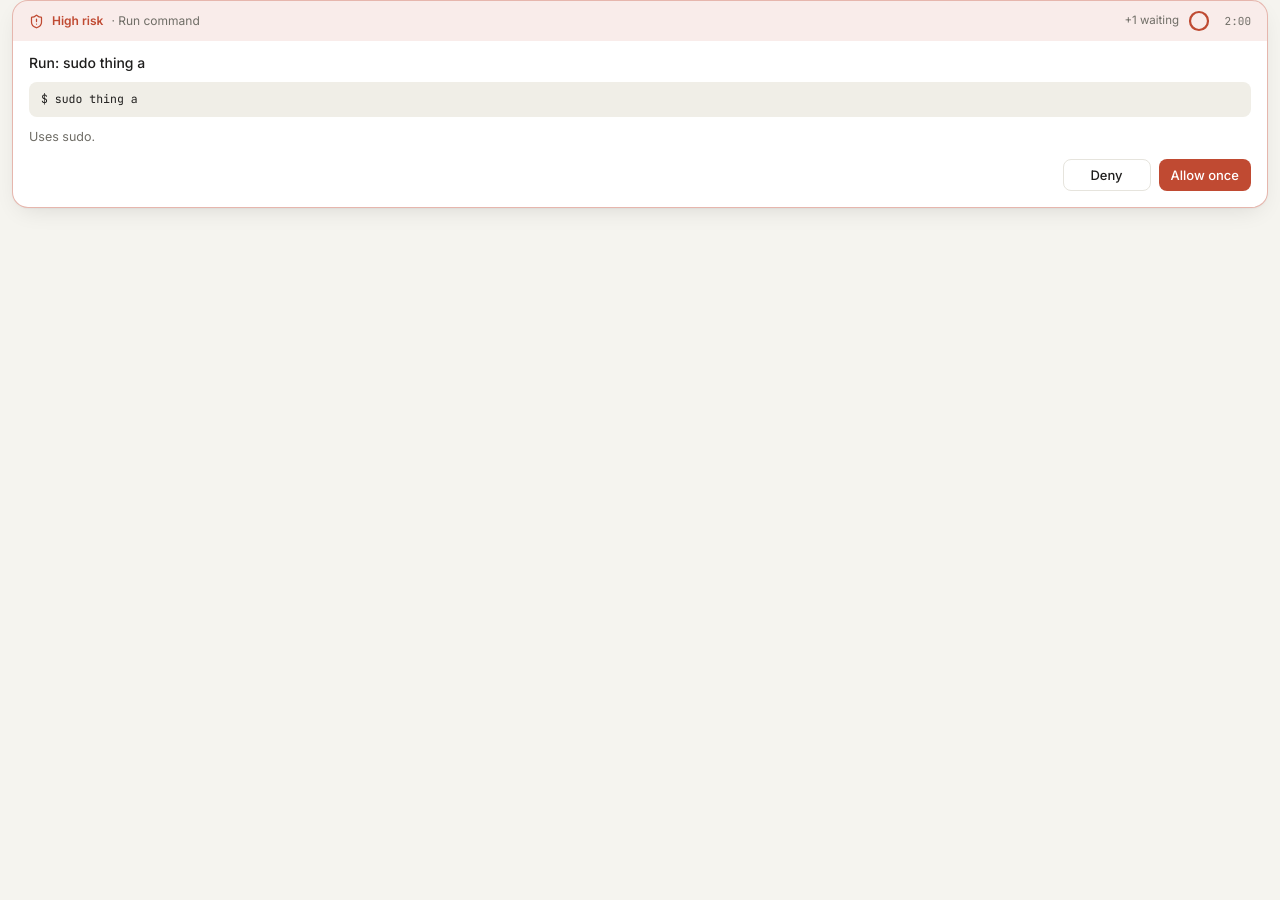
Test case: ApprovalCard › queues requests and answers allow / deny in order
Check: the dialog shows "Run: sudo thing a", box [29,54,145,71]
Check: the text "$ sudo thing a" is shown, box [29,82,1251,117]
Click the button "Allow once". click: click(1205, 175)
box: [1158,159,1251,191]
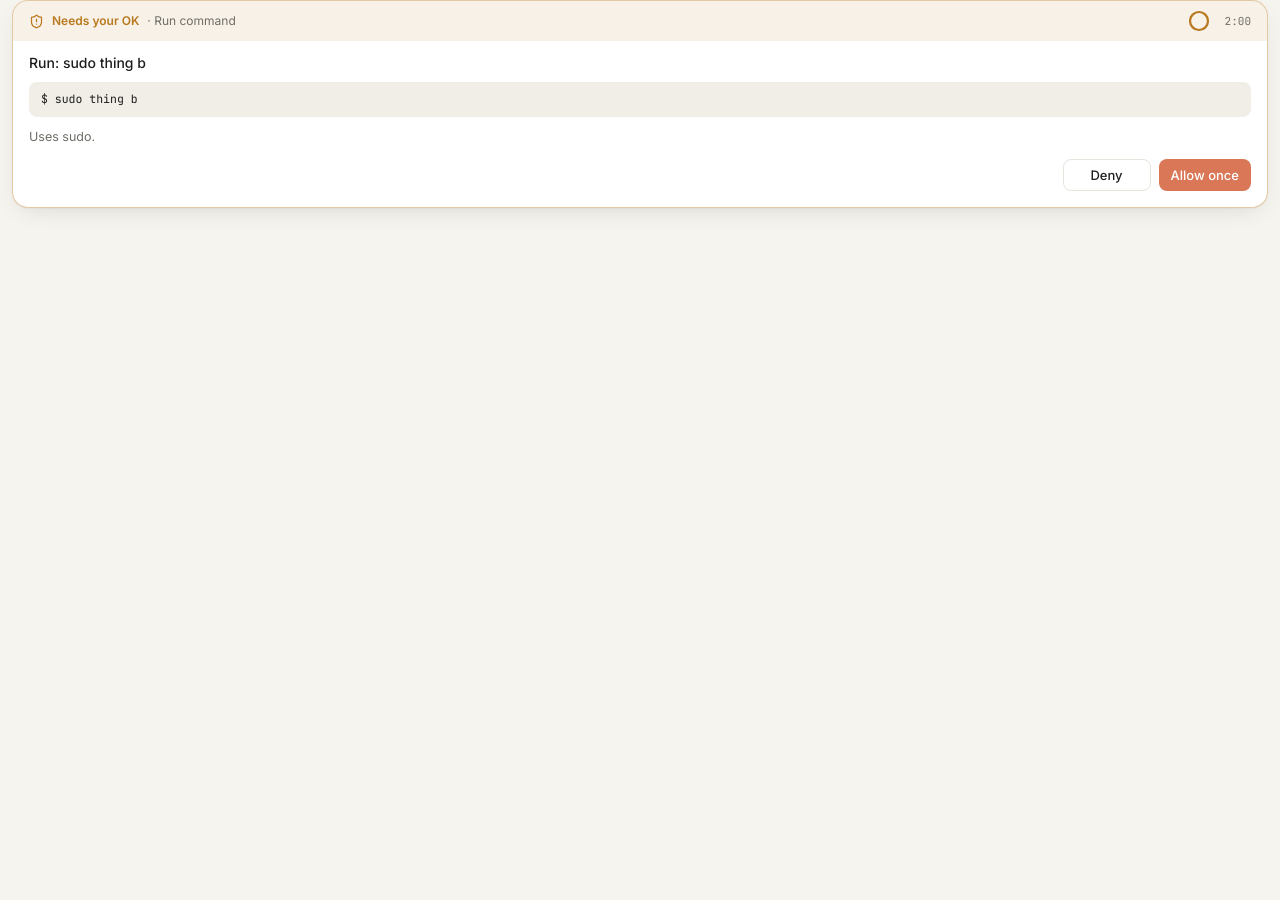
Check: the dialog shows "Run: sudo thing b", box [29,54,146,71]
Click the button "Deny". click: click(1106, 175)
box: [1062,159,1150,191]
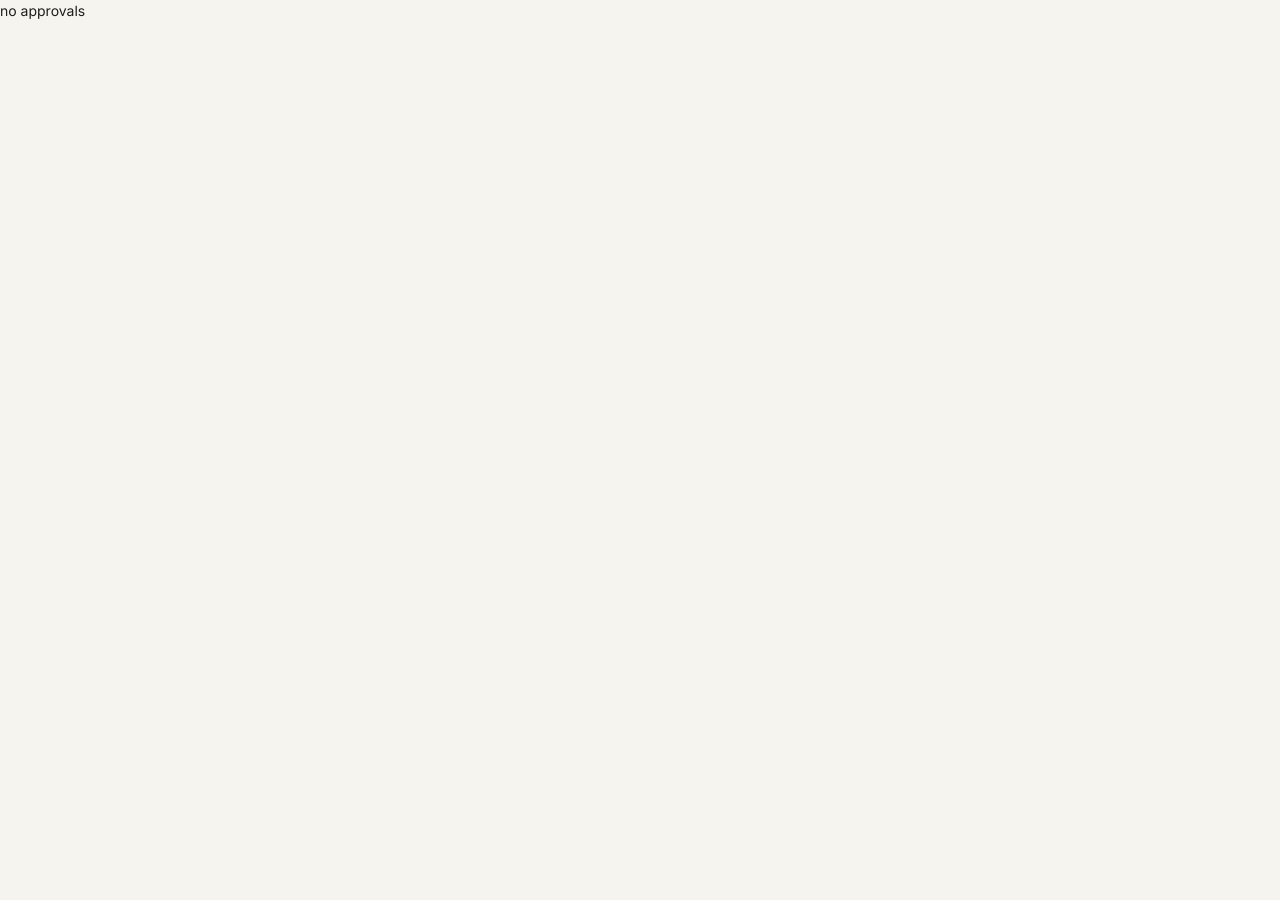
Check: the text "no approvals" is shown, box [0,2,85,19]
